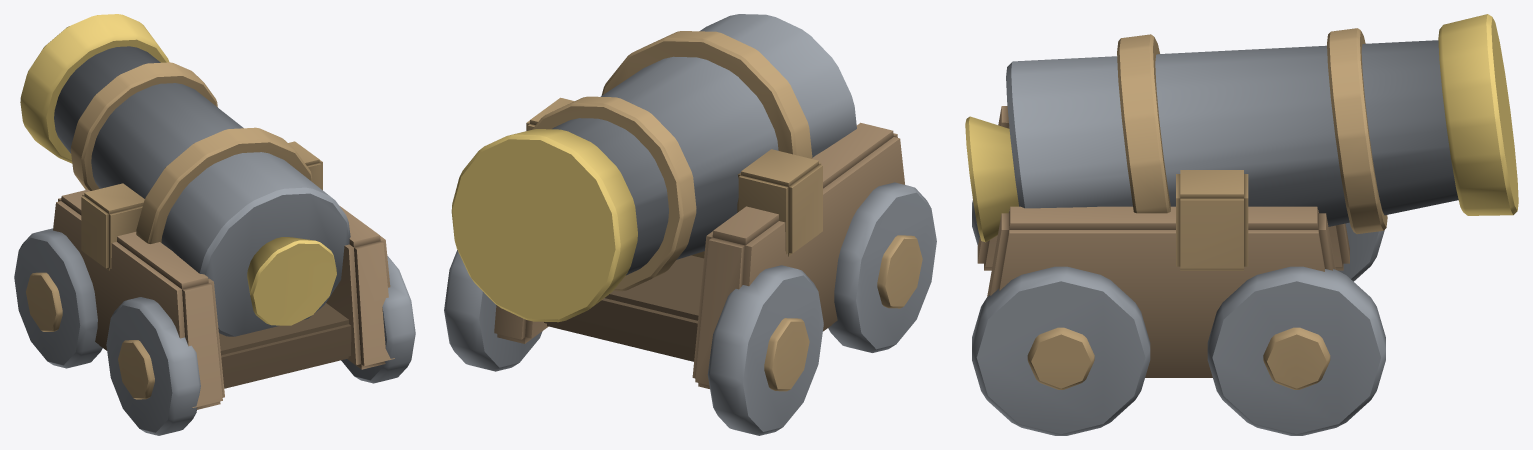
Rendered from ink_cannon_turret_lod0.glb.
The picture shows the model from 3 angles, left to right: view 1: azimuth 30°, elevation 25°; view 2: azimuth 150°, elevation 25°; view 3: azimuth 270°, elevation 25°; orthographic projection. The views are drawn at different scales.
Visible parts, largest first — view 1: ink_cannon_turret; view 2: ink_cannon_turret; view 3: ink_cannon_turret.
Part boxes in pixels (box(x1,y1,x2,y2)): ink_cannon_turret: box(14, 14, 415, 435); ink_cannon_turret: box(444, 14, 936, 435); ink_cannon_turret: box(965, 14, 1518, 435).
Size of the model in its own units: 1.25 by 1.24 by 1.83.
